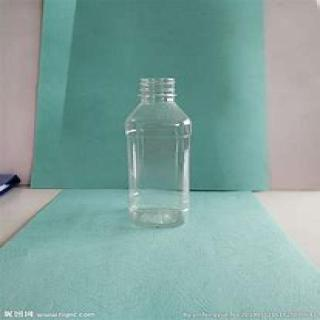Anorganik: (118, 72, 198, 236)
